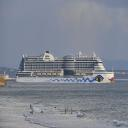cruises: (16, 51, 116, 85)
